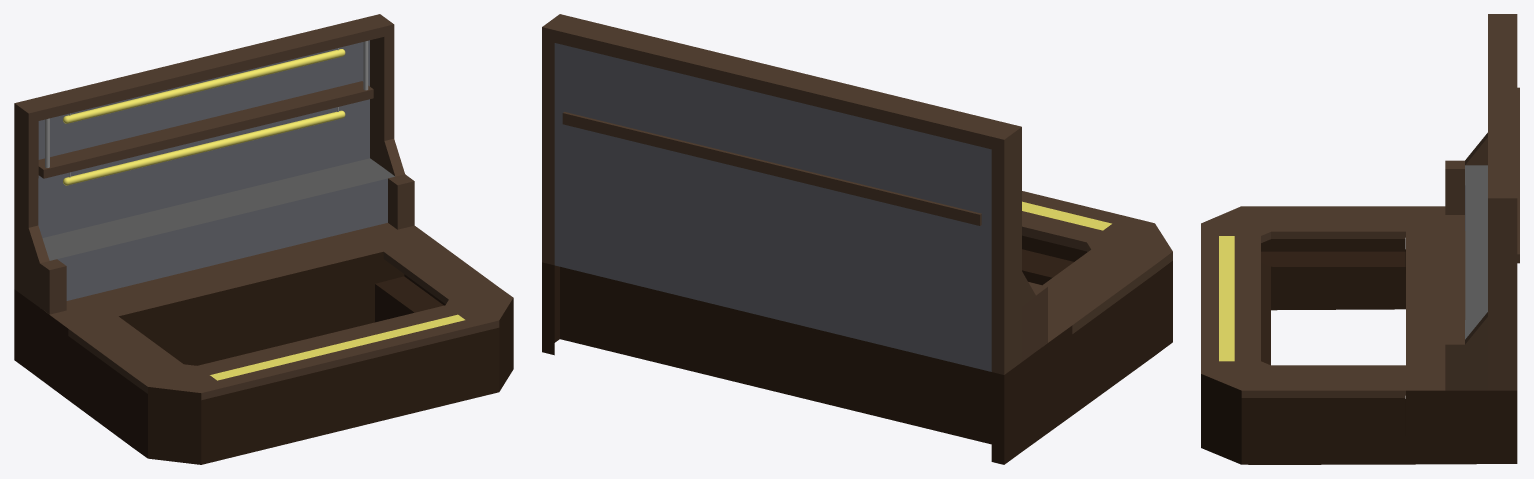
The model's file is Bar.fbx.
3 views of the same model, side by side, from view 1: azimuth 30°, elevation 25°; view 2: azimuth 150°, elevation 25°; view 3: azimuth 270°, elevation 25° (orthographic). The views are drawn at different scales.
Visible parts, largest first — view 1: Bar.001; view 2: Bar.001; view 3: Bar.001.
Part boxes in pixels (x1,y1,x2,y2): Bar.001: (14, 14, 513, 464); Bar.001: (542, 14, 1172, 464); Bar.001: (1201, 14, 1519, 464).
Bounding box in the file's own units: 589 × 397 × 431.
